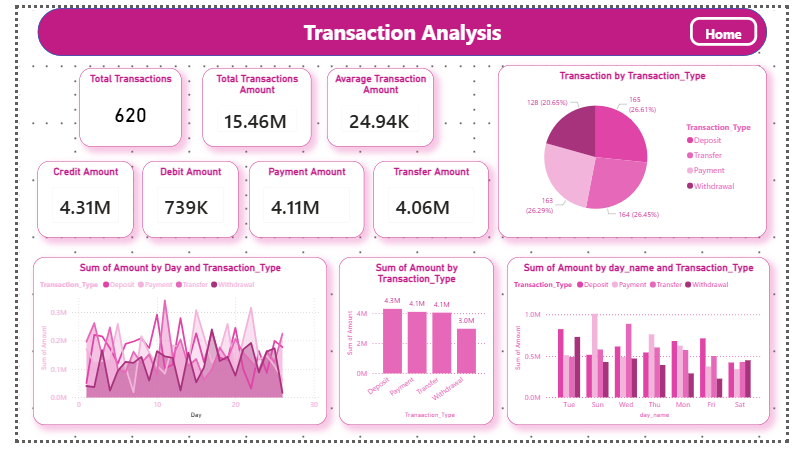

Layout of this report page (visuals, bound fields, positions):
{"tool":"powerbi","page":{"name":"transaction analysis","canvas":[1280,720],"ordinal":3},"visuals":[{"type":"card","title":"Total Transactions","fields":{"Values":["Basic Measure.Total_Transactions"]},"box":[103.6,100.4,170,131.2],"z":0},{"type":"cardVisual","title":"Total Transactions Amount","fields":{"Data":["Basic Measure.Total Transaction Amount"]},"box":[307.7,100.4,181.4,131.2],"z":1000},{"type":"cardVisual","title":"Avarage Transaction Amount","fields":{"Data":["Avg(Transactions.Amount)"]},"box":[514.9,100.4,178.1,131.2],"z":2000},{"type":"cardVisual","title":"Credit Amount","fields":{"Data":["Transactions Analysis.Credit Amount"]},"box":[32,256,160,128],"z":3000},{"type":"cardVisual","title":"Debit Amount","fields":{"Data":["Transactions Analysis.Debit Amount"]},"box":[208,256,160,128],"z":4000},{"type":"cardVisual","title":"Payment Amount","fields":{"Data":["Transactions Analysis.Payment Amount"]},"box":[384,256,192,128],"z":5000},{"type":"cardVisual","title":"Transfer Amount","fields":{"Data":["Transactions Analysis.Transfer Amount"]},"box":[592,256,192,128],"z":6000},{"type":"areaChart","fields":{"Category":["Transactions.Date.1.Variation.Date Hierarchy.Year","Transactions.Date.1.Variation.Date Hierarchy.Quarter","Transactions.Date.1.Variation.Date Hierarchy.Month","Transactions.Date.1.Variation.Date Hierarchy.Day"],"Series":["Transactions.Transaction_Type"],"Y":["Sum(Transactions.Amount)"]},"box":[24,416,490,280],"z":7000},{"type":"clusteredColumnChart","fields":{"Category":["Transactions.day_name"],"Series":["Transactions.Transaction_Type"],"Y":["Sum(Transactions.Amount)"]},"box":[816,416,438,280],"z":8000},{"type":"pieChart","title":" Transaction by Transaction_Type","fields":{"Category":["Transactions.Transaction_Type"],"Y":["CountNonNull(Transactions.Transaction_ID)"]},"box":[800,96,448,288],"z":9000},{"type":"clusteredColumnChart","fields":{"Category":["Transactions.Transaction_Type"],"Y":["Sum(Transactions.Amount)"]},"box":[536,416,258,280],"z":10000},{"type":"shape","box":[32,0,1216,80],"z":11000},{"type":"actionButton","box":[1120,16,112,48],"z":12000}]}

Visuals, with their boxes in screenshot pixels (x1, y1, x2, y2), scaled from the page's 1280x720 canvas onto the 807x451 screenshot:
"Total Transactions" card: x1=65 y1=63 x2=172 y2=145
"Total Transactions Amount" cardVisual: x1=194 y1=63 x2=308 y2=145
"Avarage Transaction Amount" cardVisual: x1=325 y1=63 x2=437 y2=145
"Credit Amount" cardVisual: x1=20 y1=160 x2=121 y2=241
"Debit Amount" cardVisual: x1=131 y1=160 x2=232 y2=241
"Payment Amount" cardVisual: x1=242 y1=160 x2=363 y2=241
"Transfer Amount" cardVisual: x1=373 y1=160 x2=494 y2=241
areaChart - Transactions.Date.1.Variation.Date Hierarchy.Year x Transactions.Date.1.Variation.Date Hierarchy.Quarter: x1=15 y1=261 x2=324 y2=436
clusteredColumnChart - Transactions.day_name x Transactions.Transaction_Type: x1=514 y1=261 x2=791 y2=436
" Transaction by Transaction_Type" pieChart: x1=504 y1=60 x2=787 y2=241
clusteredColumnChart - Transactions.Transaction_Type x Sum(Transactions.Amount): x1=338 y1=261 x2=501 y2=436
shape: x1=20 y1=0 x2=787 y2=50
actionButton: x1=706 y1=10 x2=777 y2=40
